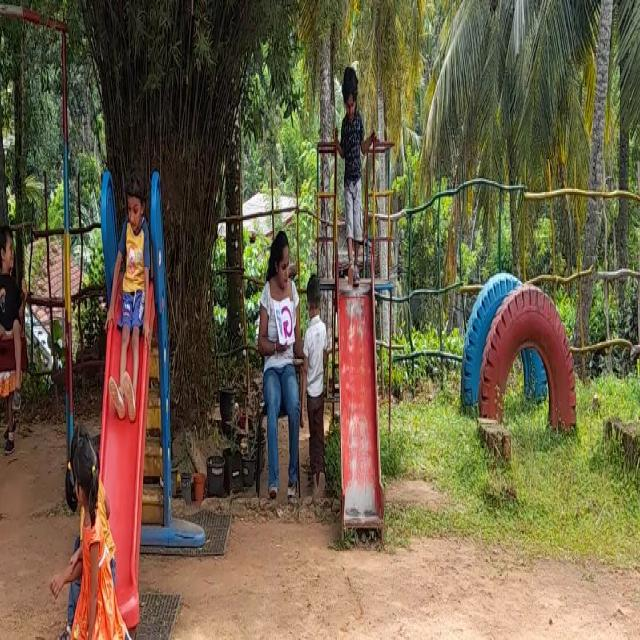adult: (255, 220, 303, 503)
child: (60, 434, 119, 640), (108, 165, 152, 430), (338, 60, 369, 288), (0, 206, 29, 428), (306, 270, 332, 490)
